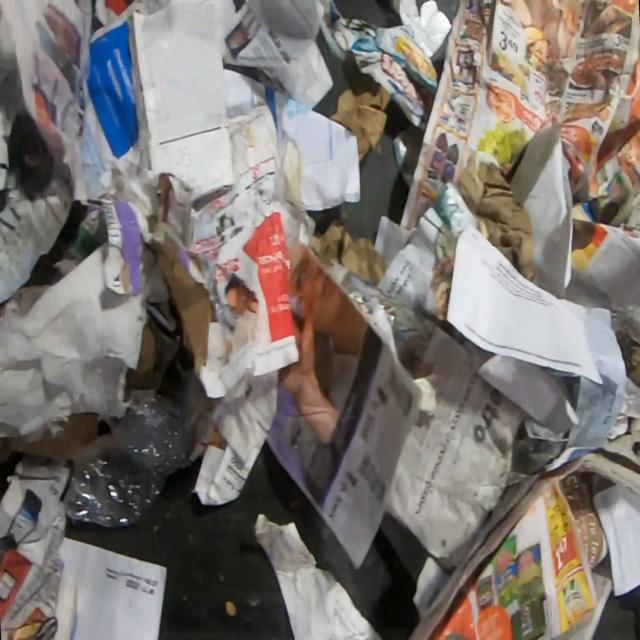cardboard: (456, 151, 538, 285), (152, 243, 216, 375), (307, 217, 384, 287), (0, 410, 99, 464), (328, 83, 390, 163)
rigid_plastic: (62, 390, 186, 527)
